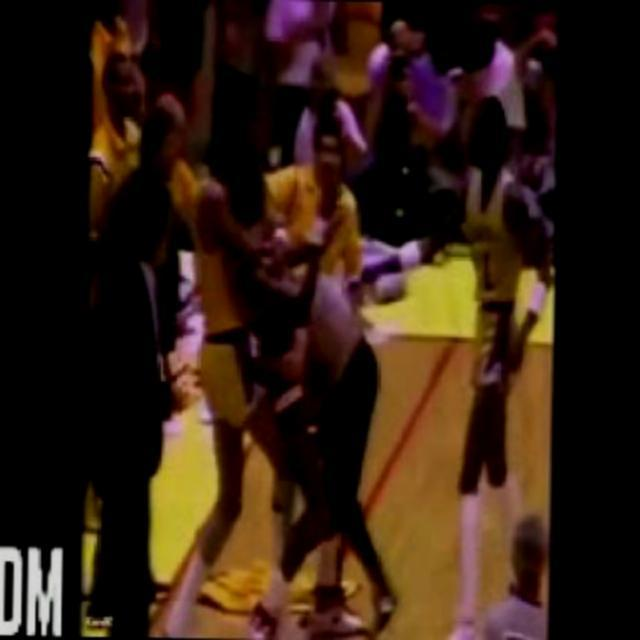fight: (183, 115, 392, 638)
